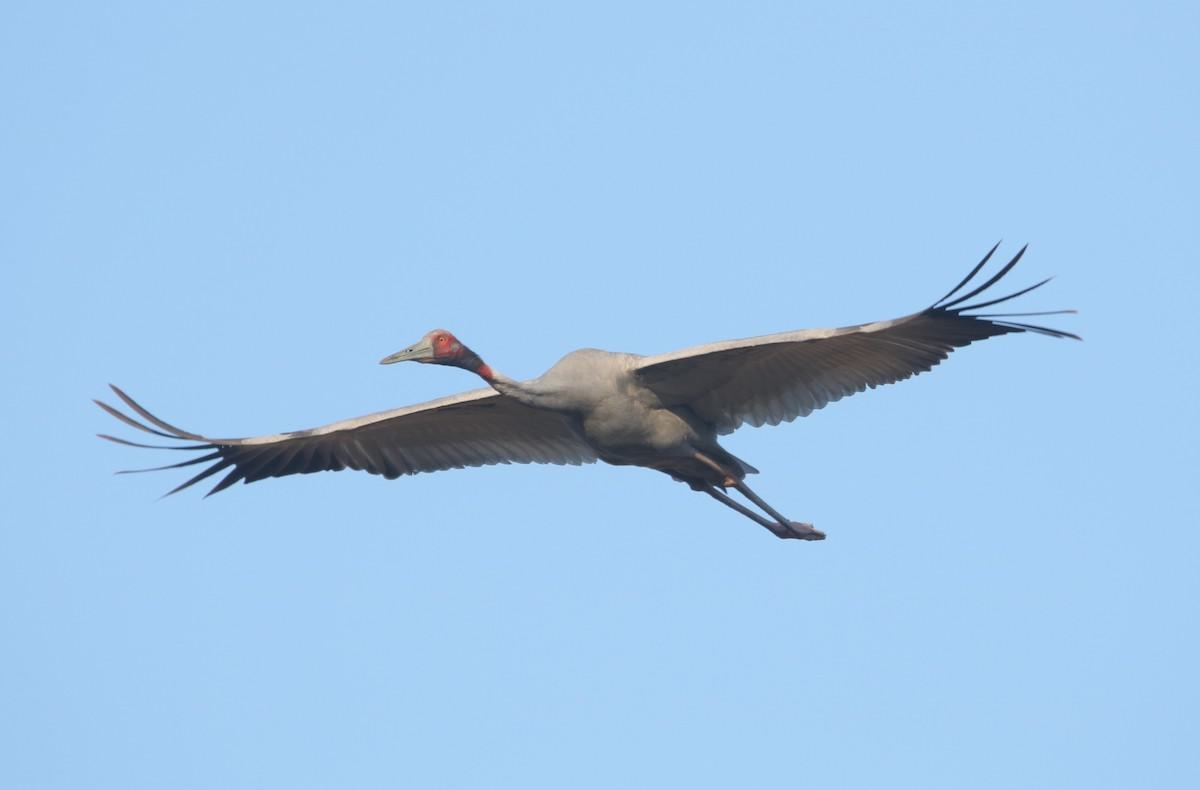crane: (103, 248, 1093, 567)
